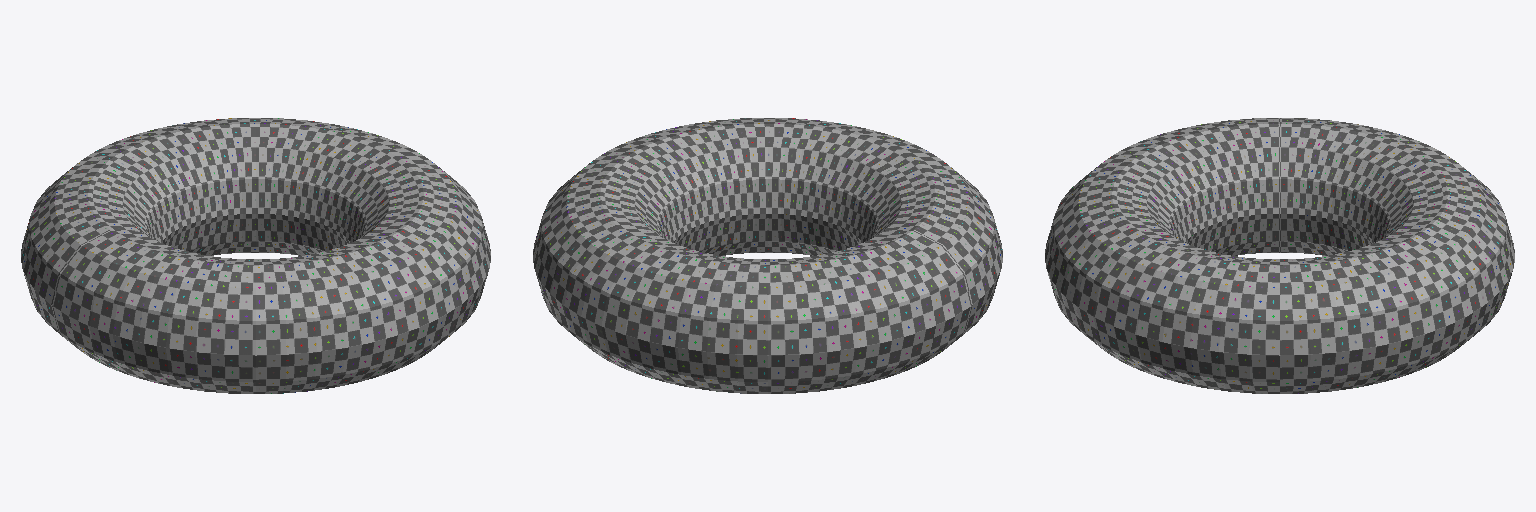
3 renders of one model, left to right at view 1: azimuth 30°, elevation 25°; view 2: azimuth 150°, elevation 25°; view 3: azimuth 270°, elevation 25°, orthographic.
Parts seen in each view (by area): view 1: torus; view 2: torus; view 3: torus.
Boxes of the visible parts, box(x1,y1,x2,y2) form: torus: box(21, 118, 490, 393); torus: box(533, 118, 1002, 393); torus: box(1045, 118, 1514, 393).
Size of the model in its own units: 5.17 by 1.49 by 5.17.
Materials: 1 (1 with a texture image).